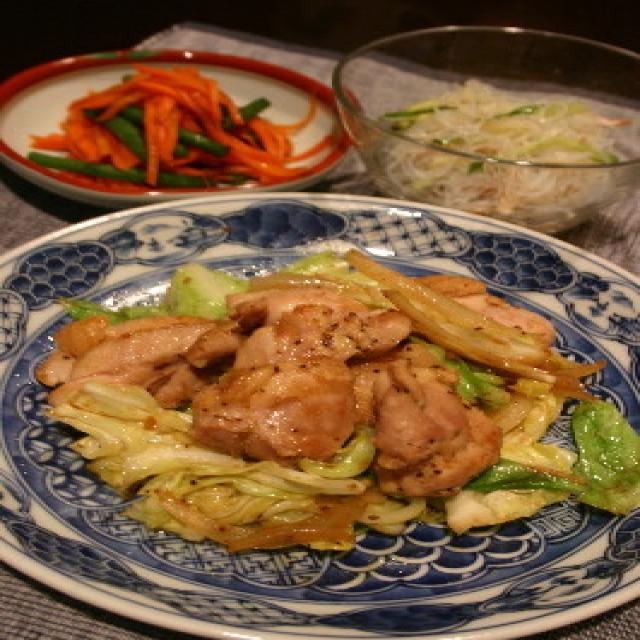蔬菜料理: (17, 234, 640, 596)
